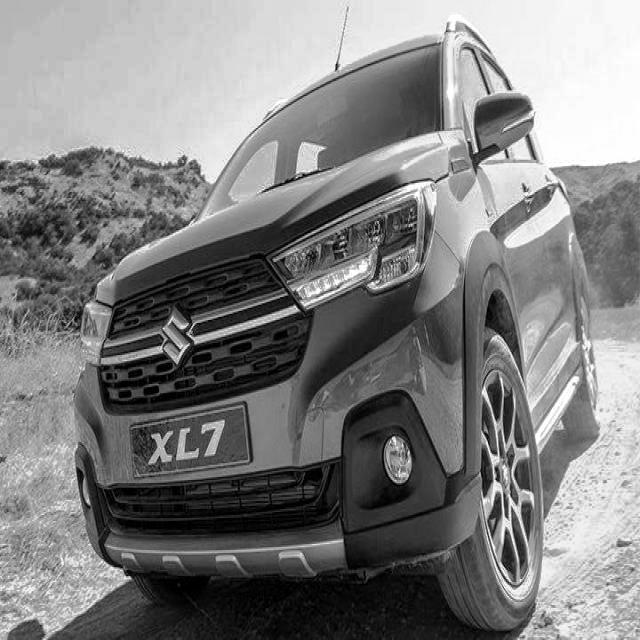Car: (48, 26, 617, 640)
